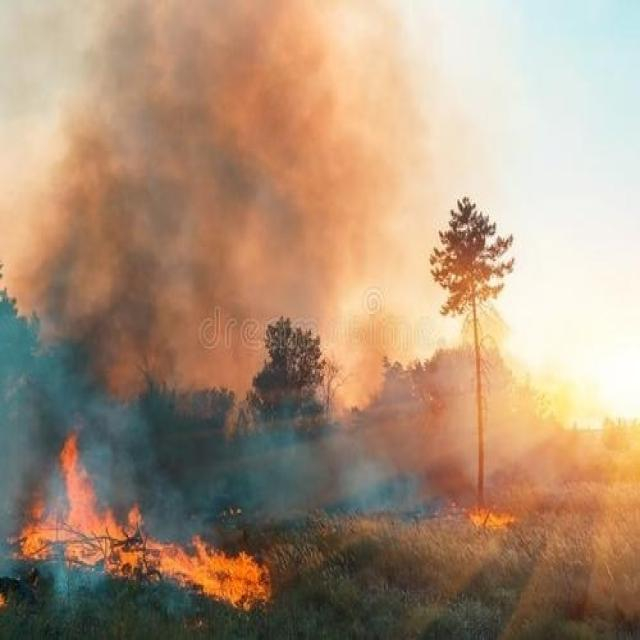Fire: (18, 438, 279, 612), (464, 503, 522, 532)
Smoke: (1, 2, 448, 604)
